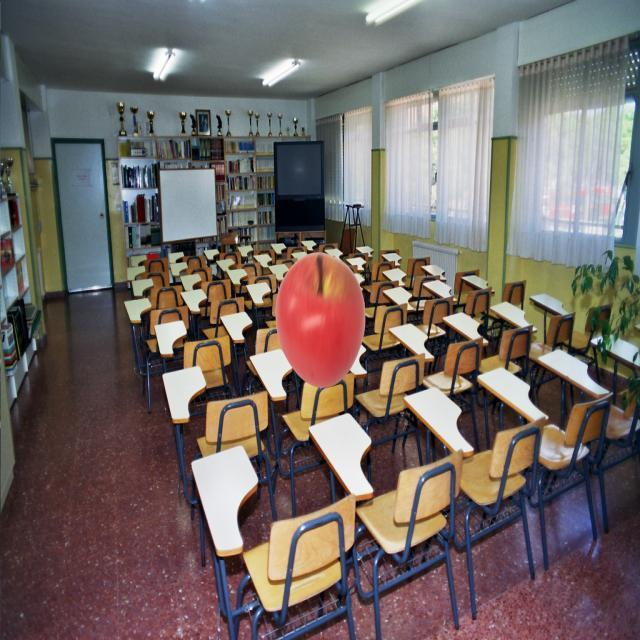apple: (276, 252, 366, 388)
